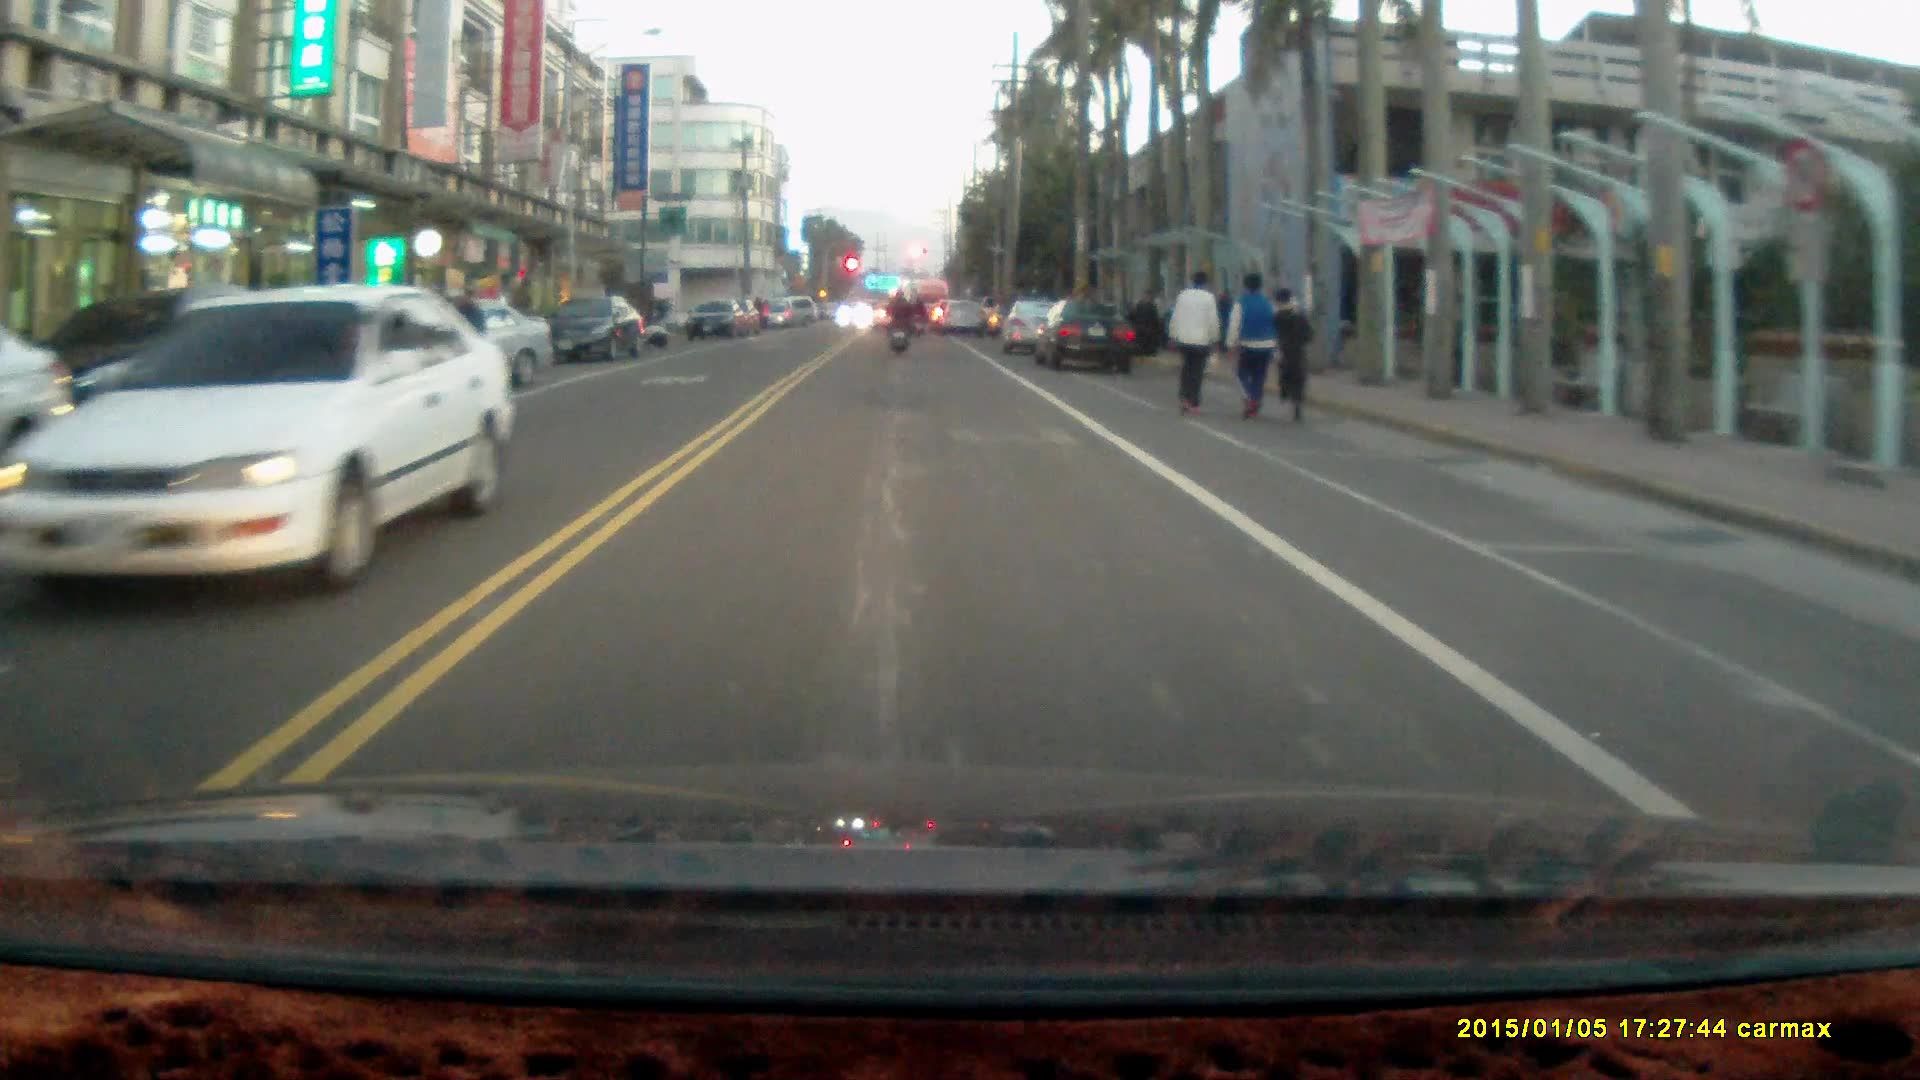pedestrian: (1165, 267, 1218, 420), (1224, 266, 1277, 421), (1267, 285, 1313, 426)
rider: (884, 285, 915, 356)
vehicle: (23, 286, 499, 604), (1038, 298, 1140, 375), (543, 294, 642, 367), (1003, 300, 1089, 360), (685, 297, 750, 340)
